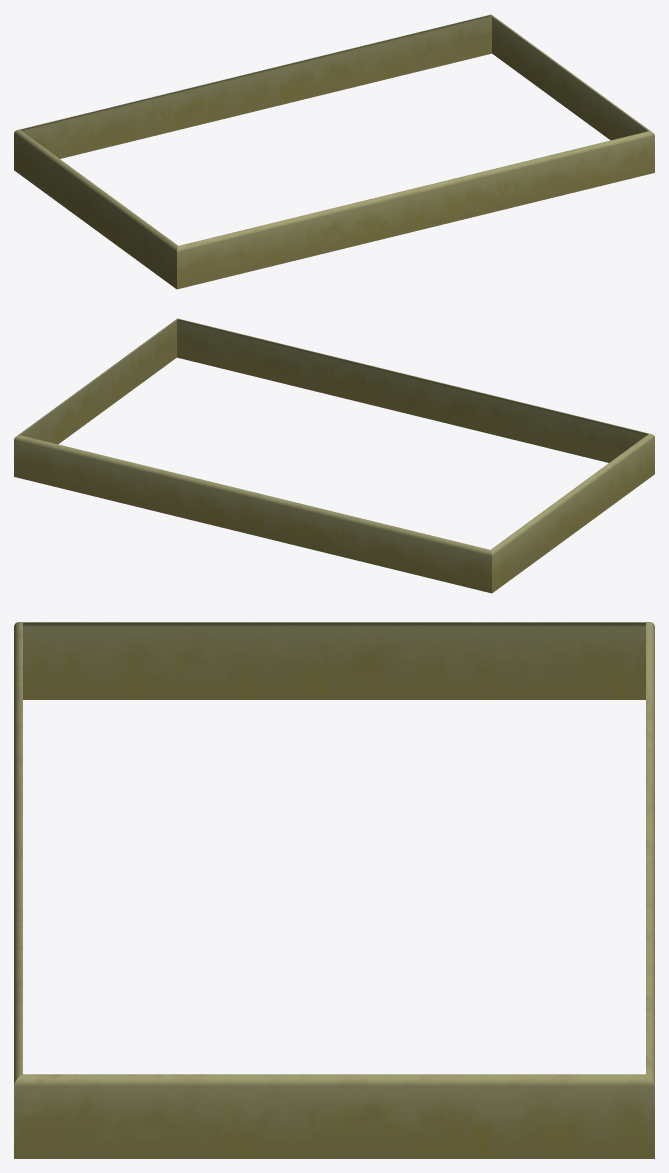
The model's file is WallFatCutCollider.fbx.
3 renders of one model, top to bottom at view 1: azimuth 30°, elevation 25°; view 2: azimuth 150°, elevation 25°; view 3: azimuth 270°, elevation 25°, orthographic. The views are drawn at different scales.
Visible parts, largest first — view 1: WallFatCutCollider; view 2: WallFatCutCollider; view 3: WallFatCutCollider.
Boxes of the visible parts, x1,y1,x2,y2 form: WallFatCutCollider: (14, 14, 654, 289); WallFatCutCollider: (14, 318, 654, 593); WallFatCutCollider: (14, 622, 654, 1158).
Bounding box in the file's own units: 305 × 25 × 180.
